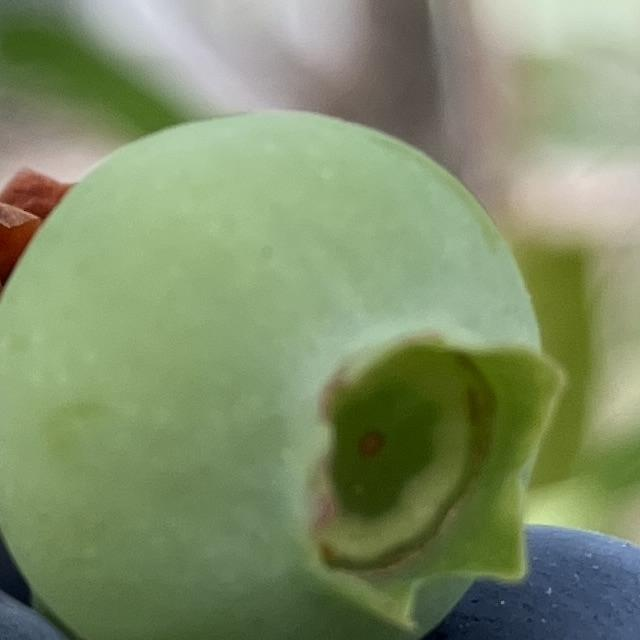Blueberries: (0, 103, 563, 640)
